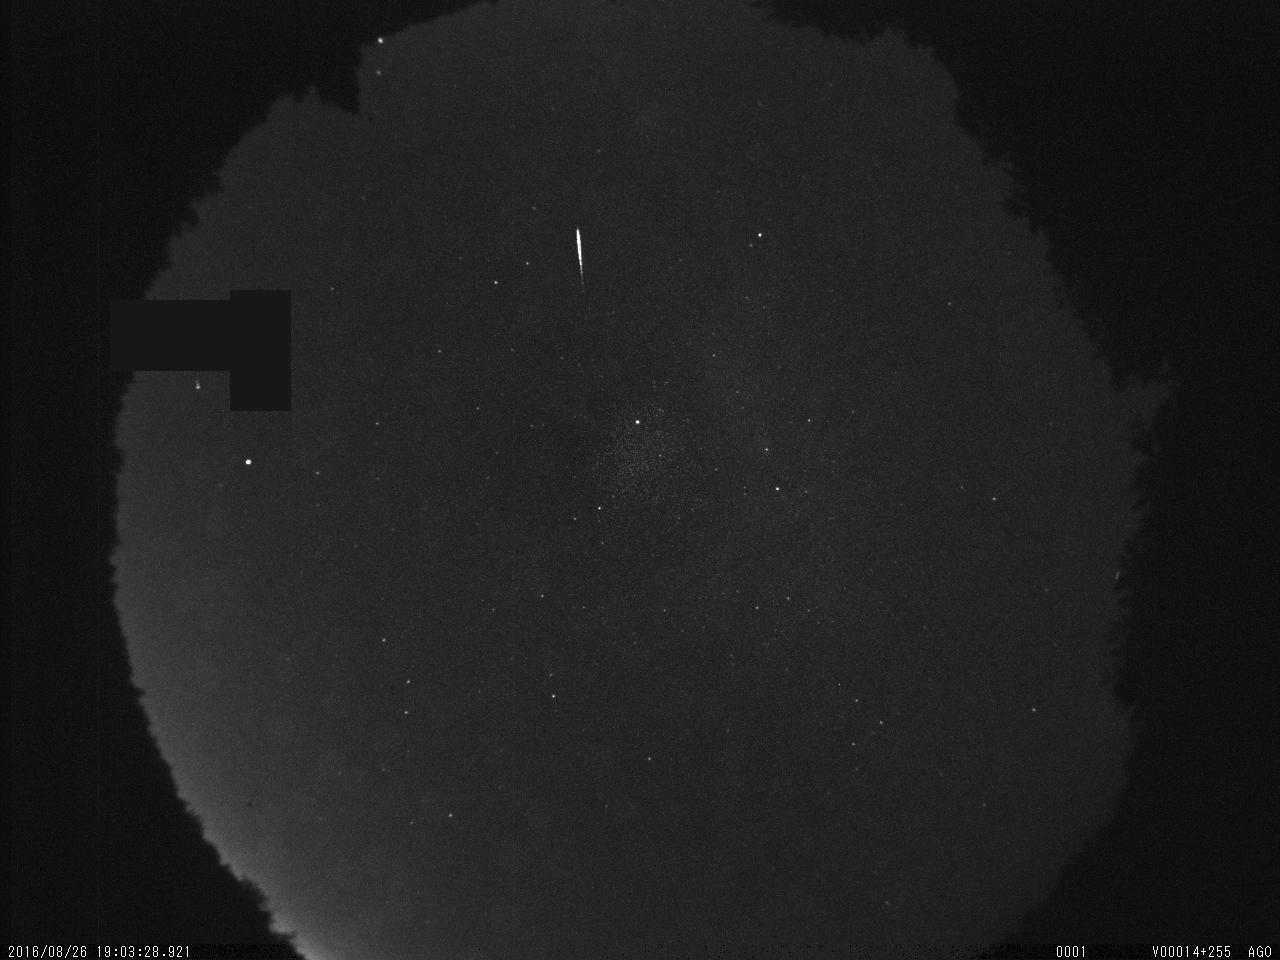Meteor: (566, 219, 601, 293)
